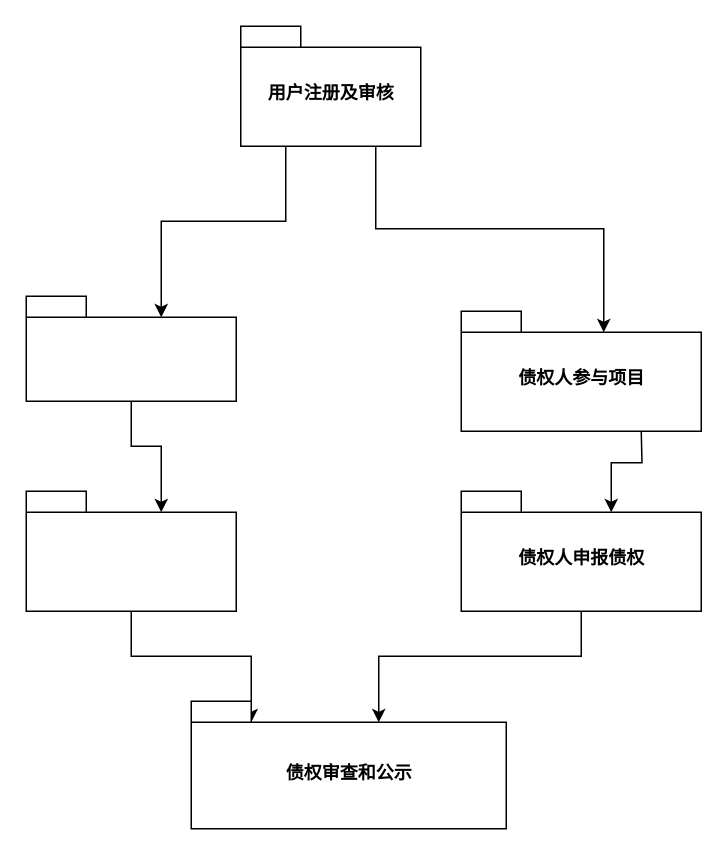
The diagram is 728 pixels wide and 855 high, and some of its shapes have lost their labels. Each missing label, with the centre of its shape:
债权预审和复审: (130,550)
管理人发起项目: (130,348)
